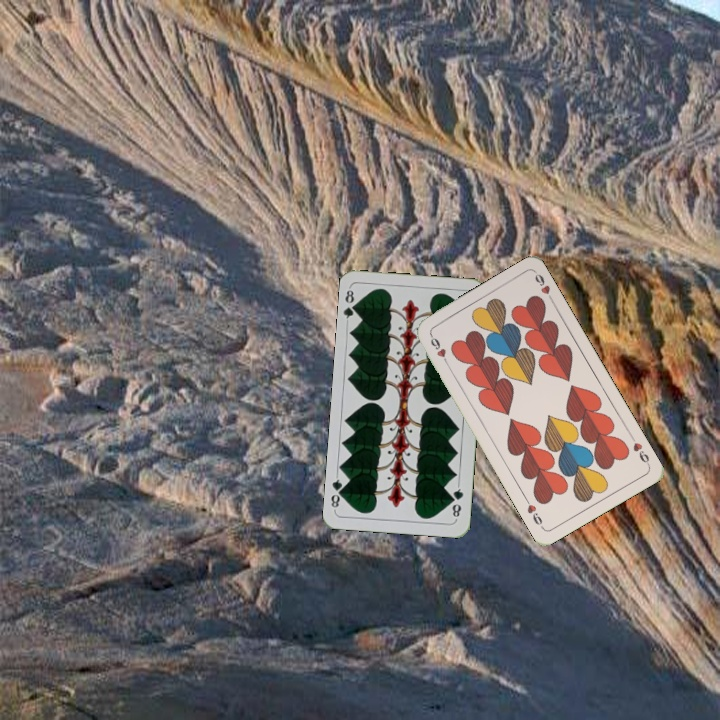G8: (340, 284, 361, 325), (448, 481, 466, 522)
H9: (626, 431, 652, 468), (426, 330, 451, 368)
